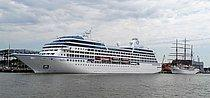Ship: (9, 27, 165, 77), (165, 37, 203, 79)
